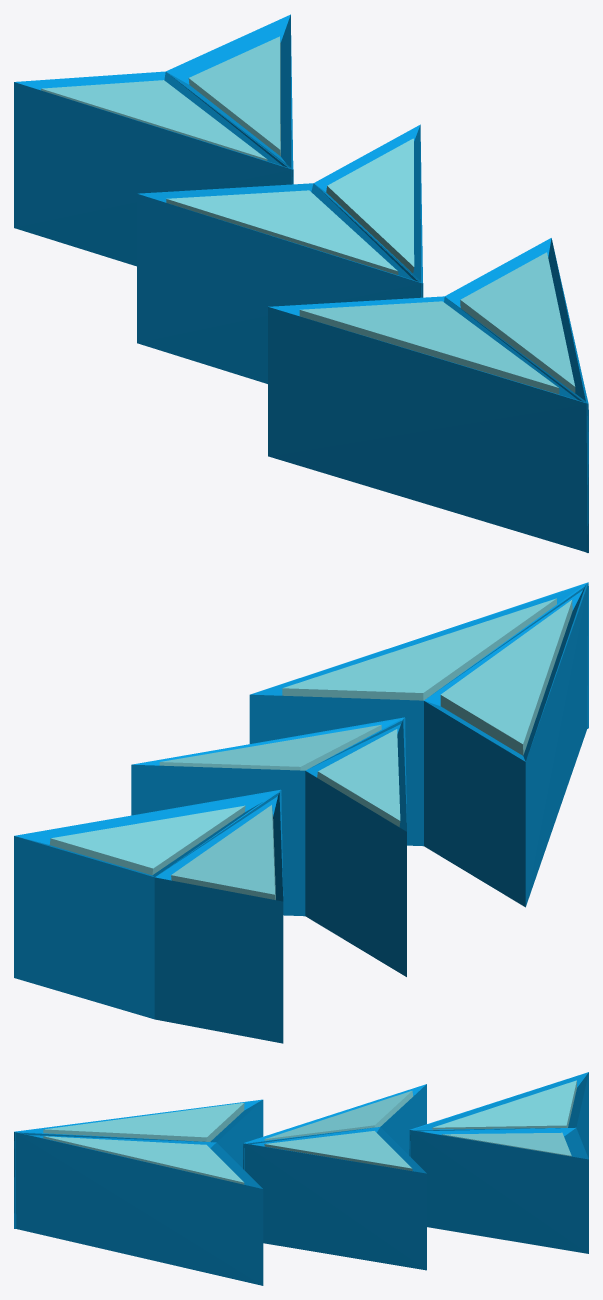
Rendered from nav_arrow.glb.
3 views of the same model, one above another, from view 1: azimuth 30°, elevation 25°; view 2: azimuth 150°, elevation 25°; view 3: azimuth 270°, elevation 25° (orthographic). The views are drawn at different scales.
Visible parts, largest first — view 1: group138128194, group109929103, group1069140805; view 2: group1069140805, group138128194, group109929103; view 3: group138128194, group109929103, group1069140805.
Part boxes in pixels (x1,y1,x2,y2): group138128194: [268, 238, 588, 552]; group109929103: [137, 124, 423, 383]; group1069140805: [14, 14, 293, 266]; group1069140805: [14, 789, 283, 1043]; group138128194: [249, 582, 588, 907]; group109929103: [131, 717, 406, 976]; group138128194: [14, 1099, 263, 1285]; group109929103: [243, 1084, 426, 1270]; group1069140805: [409, 1072, 588, 1253].
Size of the model in its own units: 1.25 by 0.791 by 3.34.
